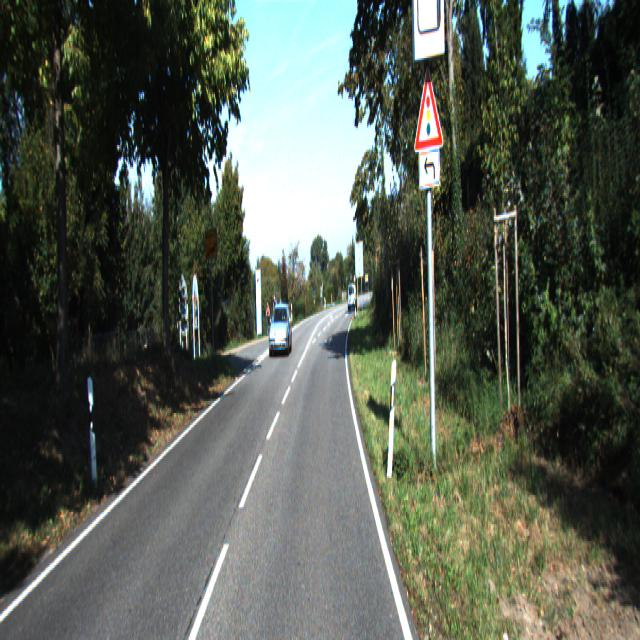Car: (268, 305, 292, 359)
